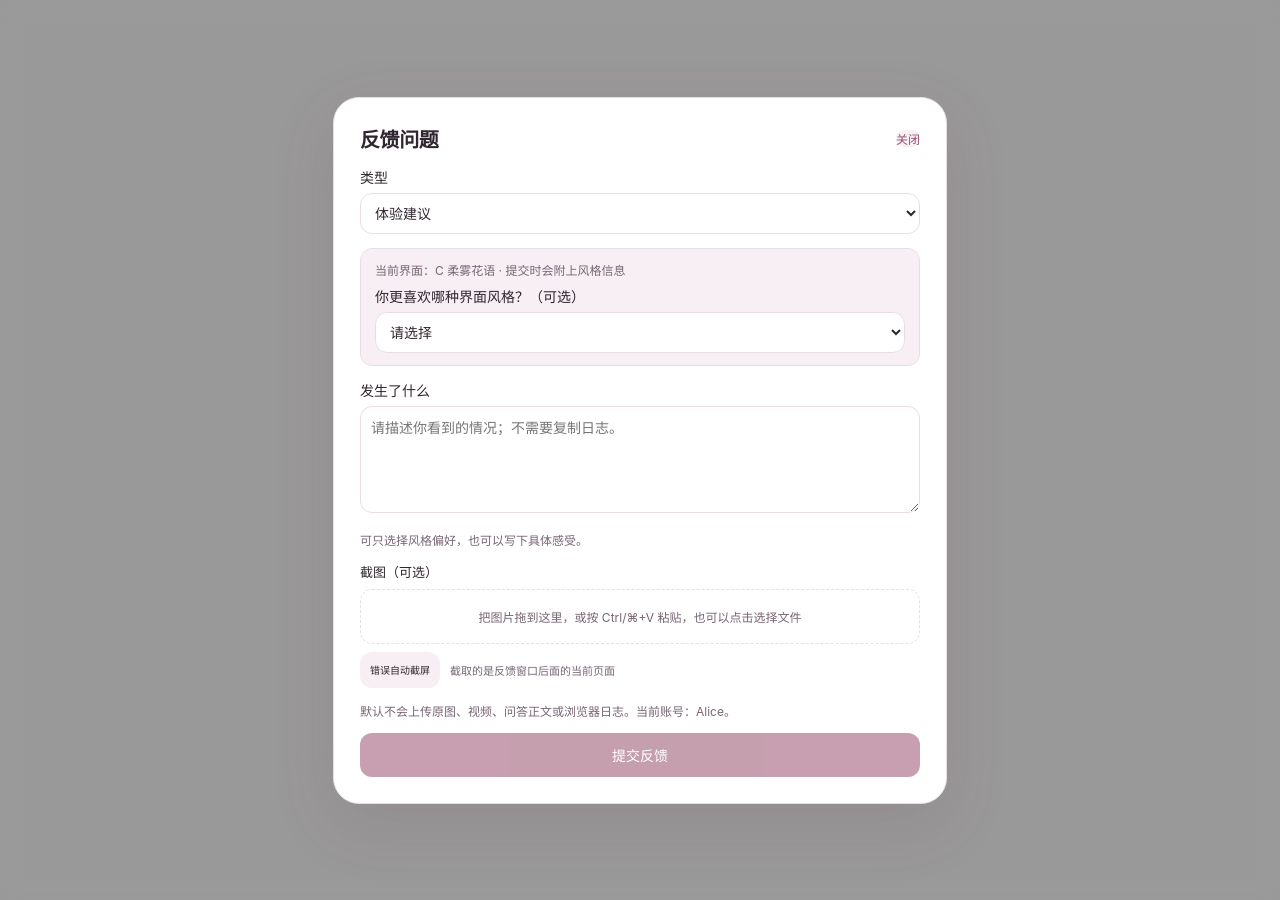
Test: 风格反馈 › 只选偏好也可提交，附上真实当前风格与版本，成功后清理草稿
The width and height of the screenshot is (1280, 900).
Select "A 清透影像" in the dropdown labelled "你更喜欢哪种界面风格？（可选）" at (640, 332), box [375,312,905,352]
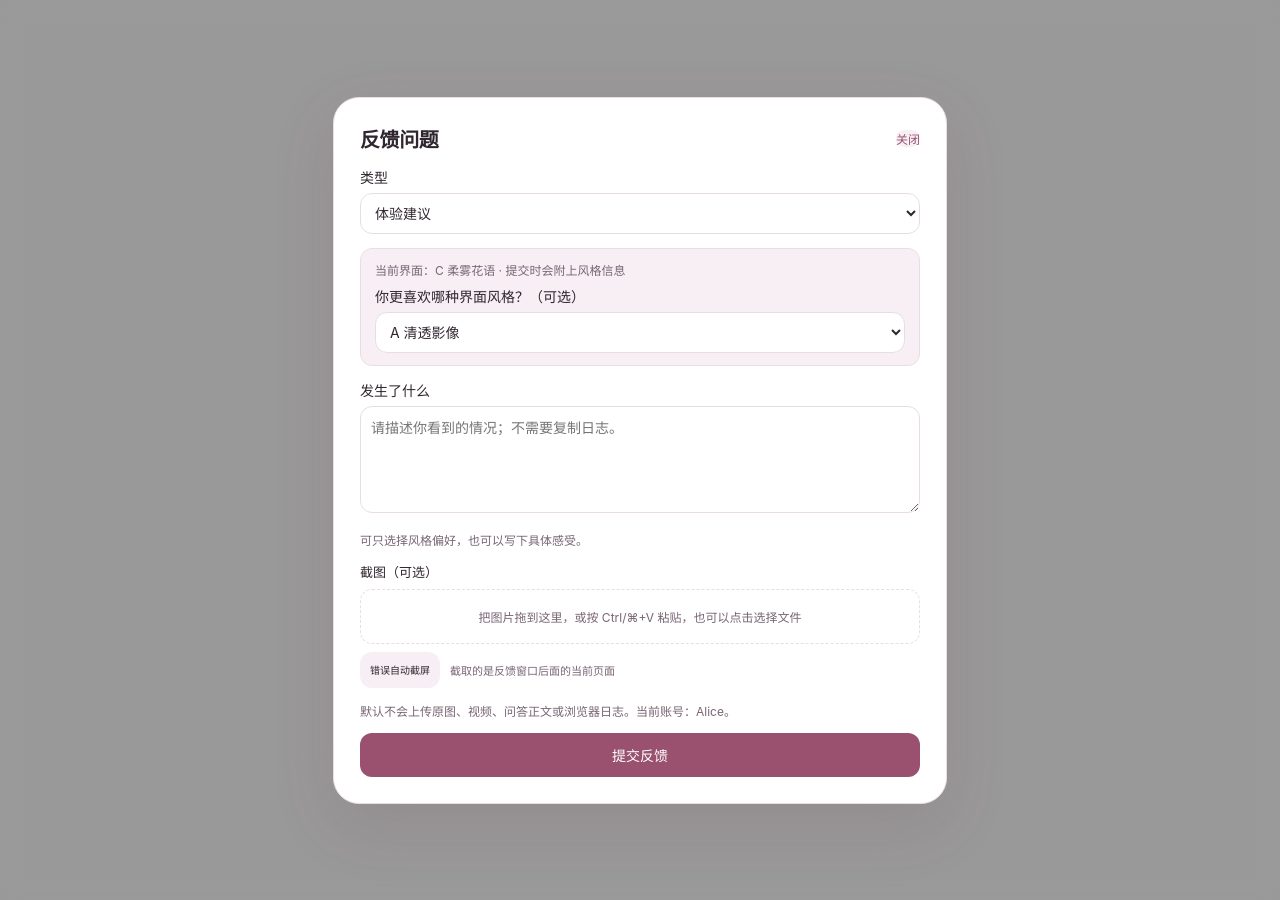
Click the button "提交反馈" at (640, 754), box [360,732,920,776]
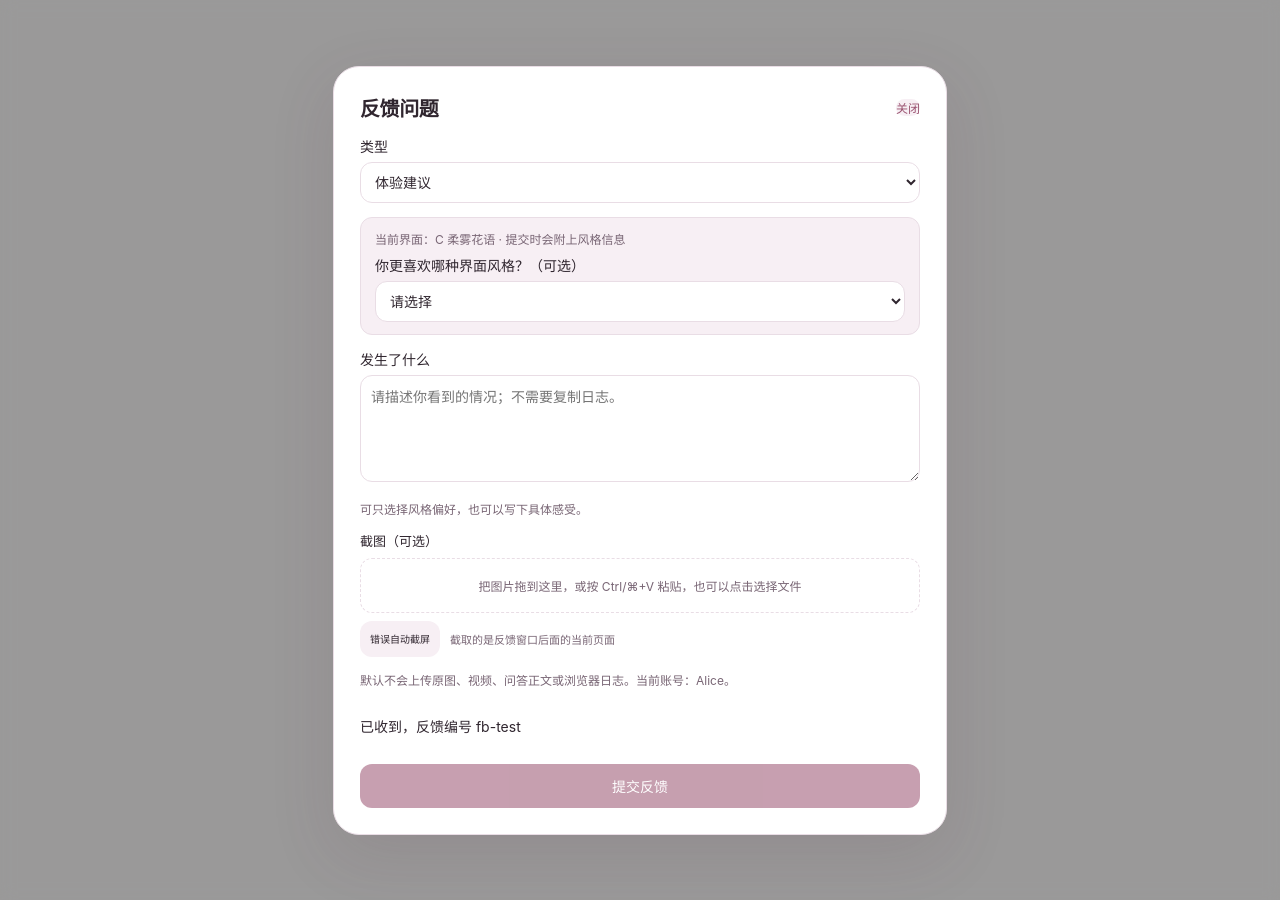
expect the text "已收到，反馈编号 fb-test" is shown: met, box [360,718,521,734]
